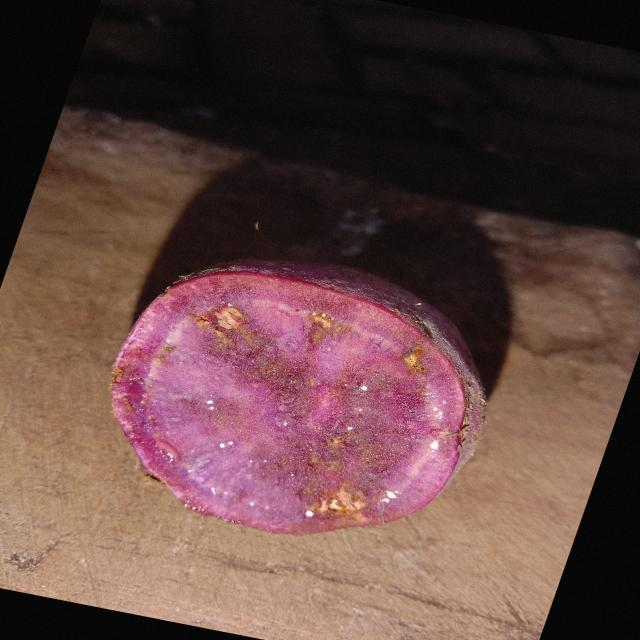Sick Sweet Potato_Tuber Rot: (112, 272, 465, 534)
